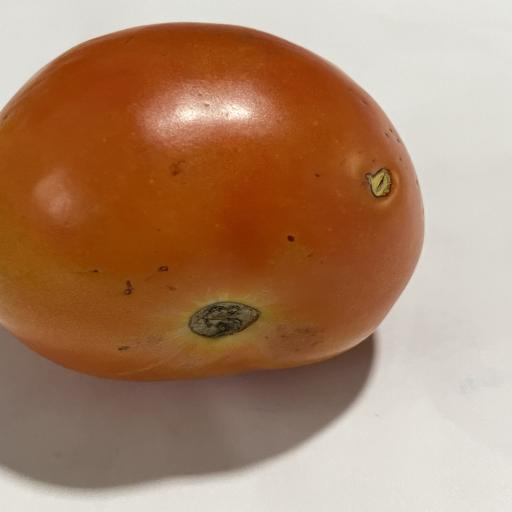ripe: (0, 23, 423, 380)
